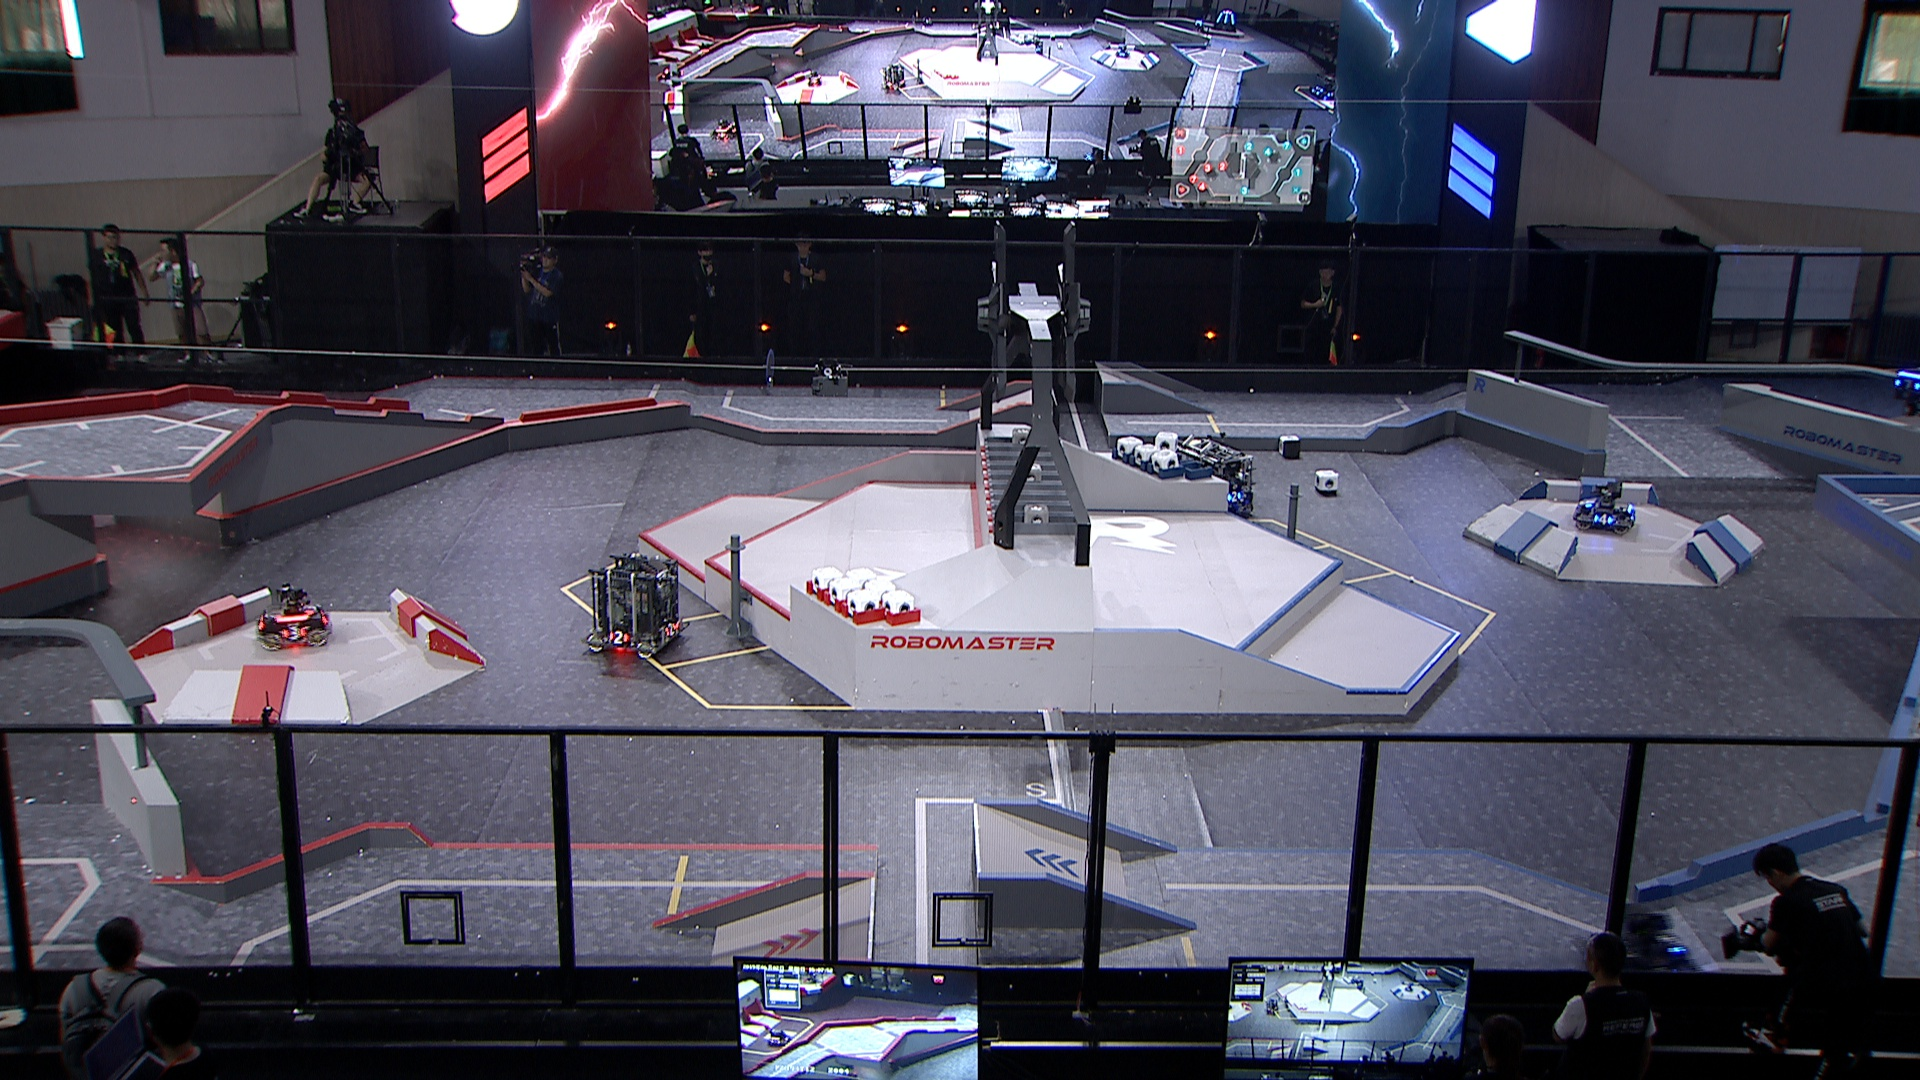armor: (1654, 928, 1688, 955), (278, 624, 306, 642), (607, 628, 629, 646), (1894, 377, 1920, 392), (1593, 512, 1615, 527), (665, 621, 680, 637), (301, 603, 319, 616), (1226, 491, 1244, 502)
car: (1575, 902, 1709, 1002), (580, 550, 688, 659), (1172, 436, 1257, 520), (253, 584, 330, 651), (1571, 481, 1636, 535)
ignore: (880, 63, 906, 92), (708, 117, 740, 140), (1212, 8, 1240, 33), (1309, 76, 1335, 100), (1083, 145, 1110, 164), (1021, 36, 1044, 55), (804, 69, 823, 88), (1114, 41, 1131, 58)
watcher: (1890, 367, 1920, 414)
